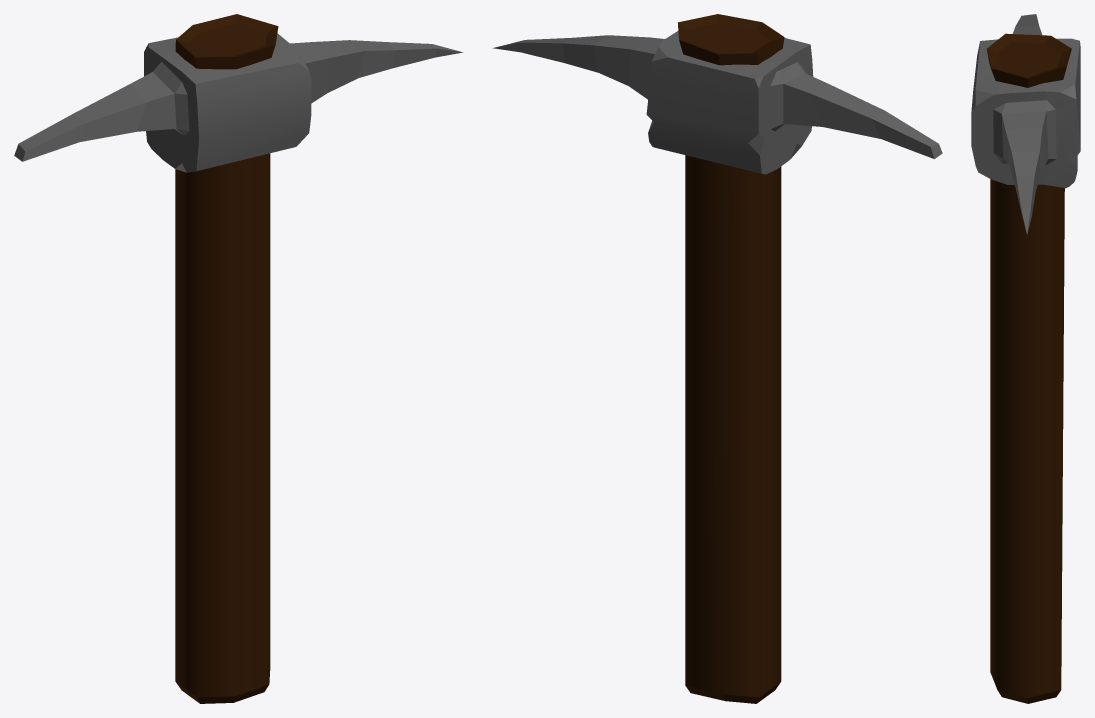
Rendered from pickaxe.FBX.
3 views of the same model, side by side, from view 1: azimuth 30°, elevation 25°; view 2: azimuth 150°, elevation 25°; view 3: azimuth 270°, elevation 25° (orthographic). The views are drawn at different scales.
Visible parts, largest first — view 1: Cylinder001; view 2: Cylinder001; view 3: Cylinder001.
Boxes of the visible parts, x1=… form: Cylinder001: x1=14, y1=14, x2=463, y2=703; Cylinder001: x1=492, y1=14, x2=942, y2=703; Cylinder001: x1=971, y1=14, x2=1080, y2=703.
Size of the model in its own units: 80.59 by 113 by 17.63.
